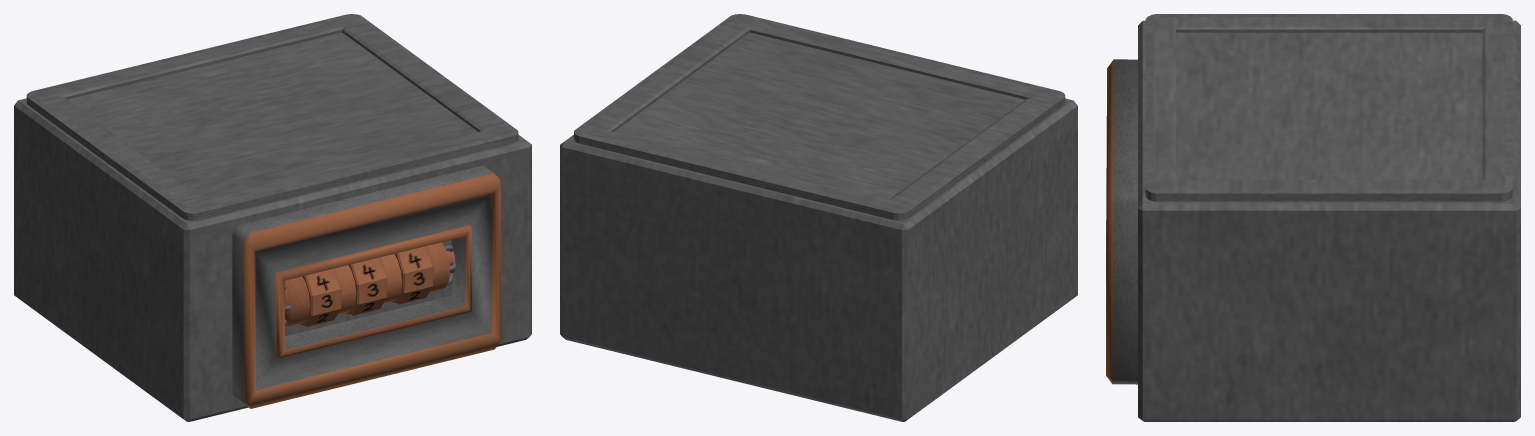
File: LE_Safe.fbx
The picture shows the model from 3 angles, left to right: view 1: azimuth 30°, elevation 25°; view 2: azimuth 150°, elevation 25°; view 3: azimuth 270°, elevation 25°; orthographic projection. The views are drawn at different scales.
Parts seen in each view (by area): view 1: Box, LE_Lock, LE_Door, Cylinder.003, Cylinder.002, Cylinder.001; view 2: Box, LE_Door; view 3: Box, LE_Door, LE_Lock.
Boxes of the visible parts, x1,y1,x2,y2 form: Box: (14,14,531,421); LE_Lock: (232,165,501,408); LE_Door: (67,32,477,199); Cylinder.003: (392,246,433,304); Cylinder.002: (299,268,341,326); Cylinder.001: (346,257,387,315); Box: (560,14,1077,421); LE_Door: (614,32,1024,199); Box: (1138,14,1520,421); LE_Door: (1176,32,1482,179); LE_Lock: (1106,59,1137,384).
Size of the model in its own units: 18.19 by 10.27 by 17.02.
4 materials, 4 textured.
